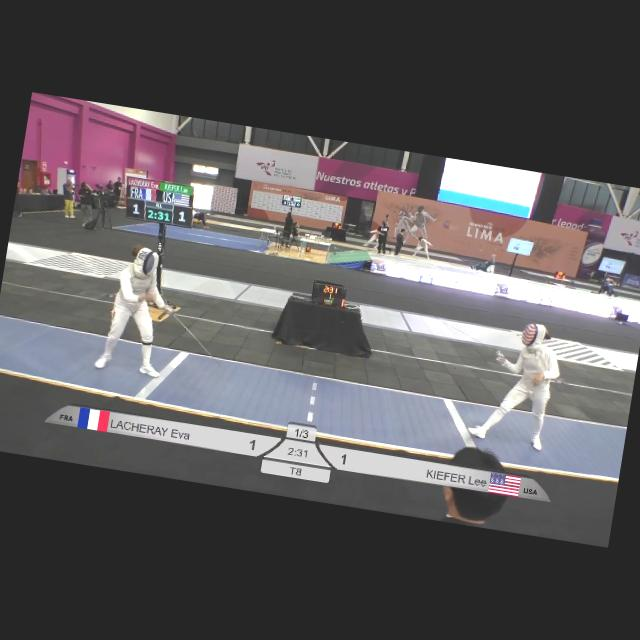blade: (158, 306, 240, 375), (426, 312, 508, 362)
